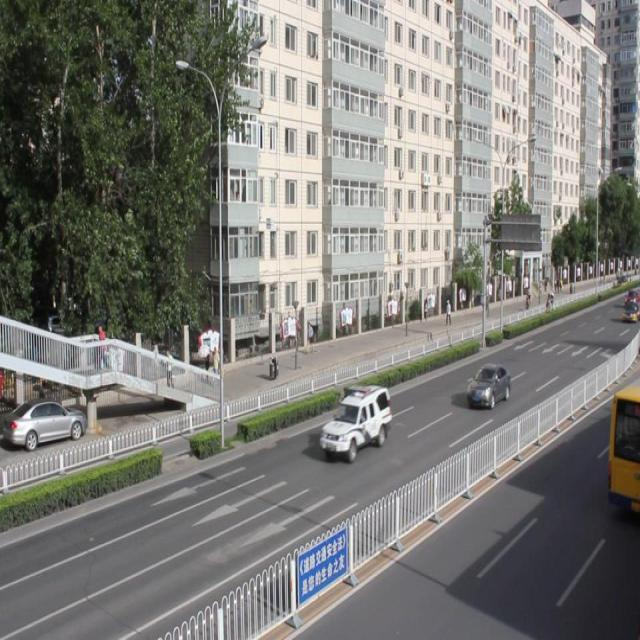car: (319, 384, 390, 456), (466, 362, 509, 408)
van: (607, 374, 640, 505)
